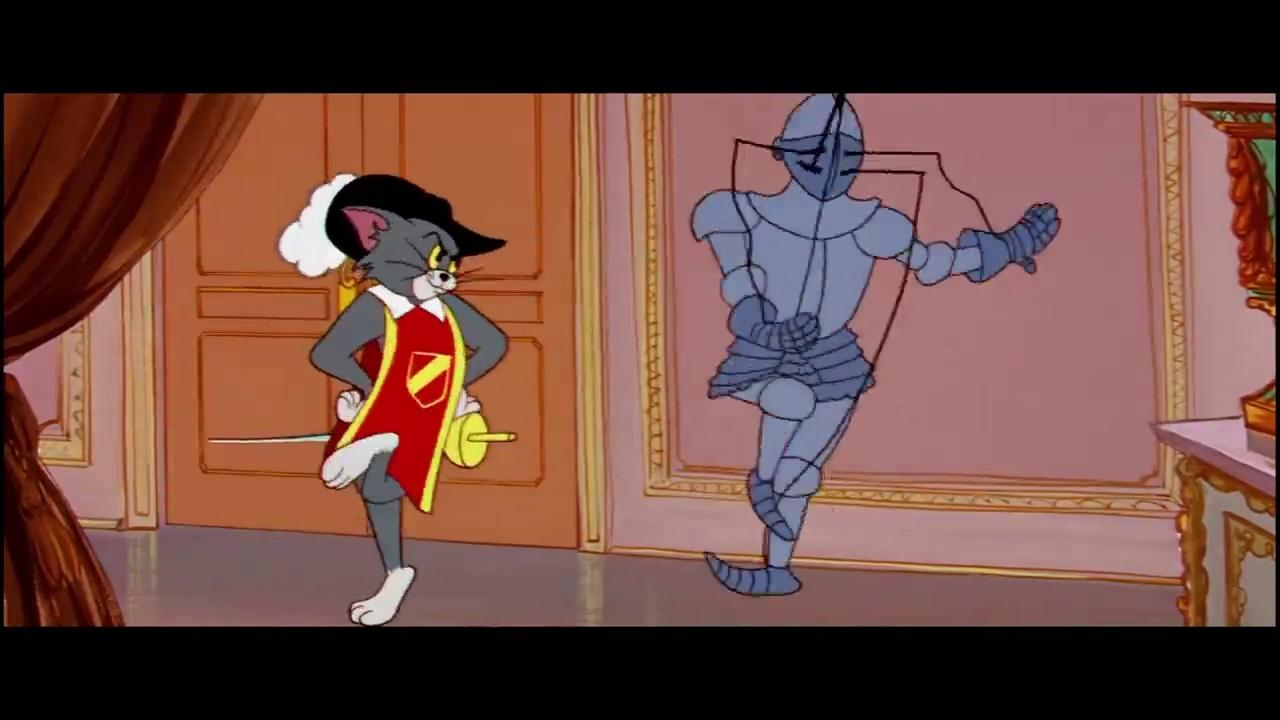Tom: (308, 203, 510, 627)
